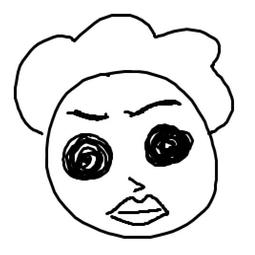cupid_mouth: (106, 193, 170, 229)
eye: (139, 120, 195, 173), (57, 131, 113, 183)
frowning_eyebrow: (121, 97, 186, 120), (66, 103, 112, 127)
pointy_nose: (124, 176, 149, 194)
